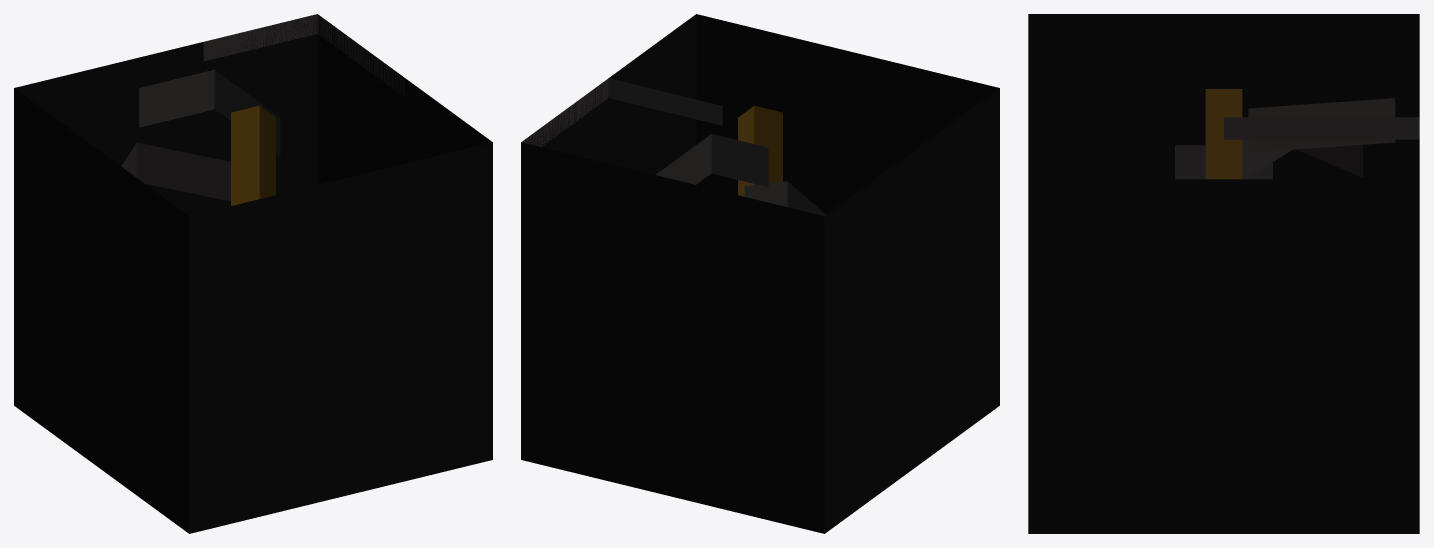
The model's file is obj_staircase_24_0.obj.
3 views of the same model, side by side, from view 1: azimuth 30°, elevation 25°; view 2: azimuth 150°, elevation 25°; view 3: azimuth 270°, elevation 25° (orthographic). The views are drawn at different scales.
Size of the model in its own units: 2 by 2 by 2.
